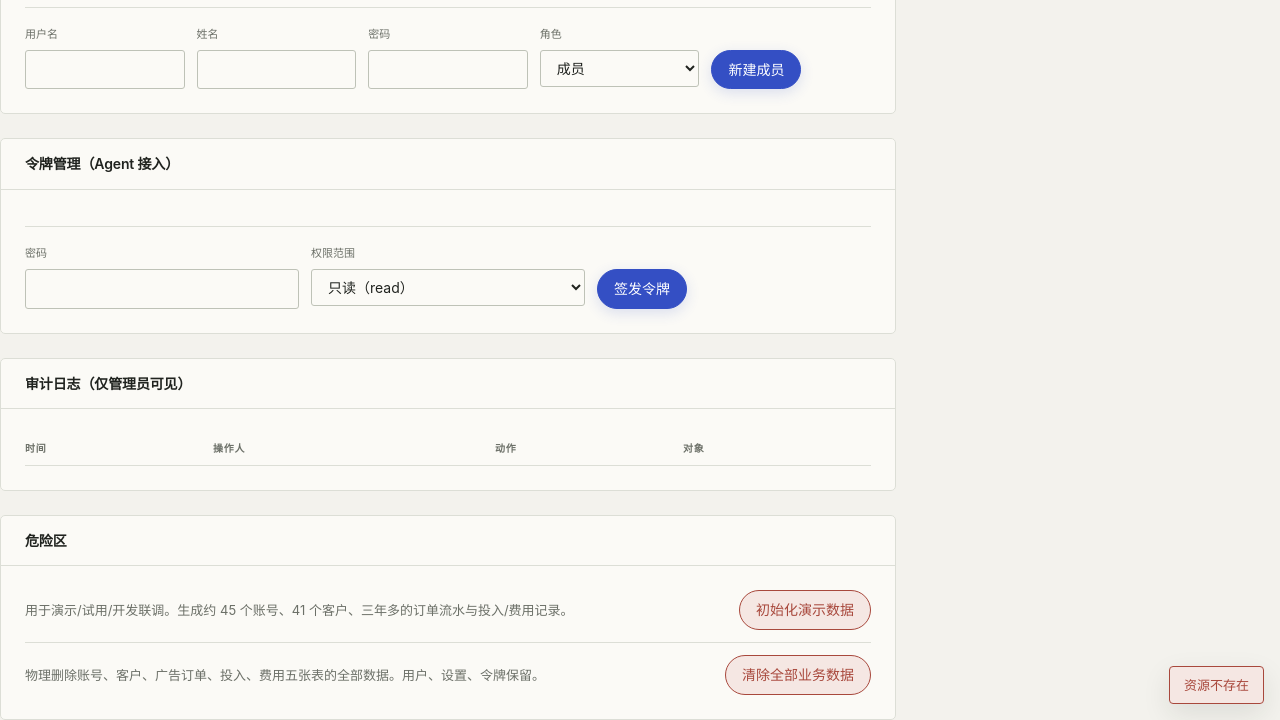
Scenario: S10/S11 危险区 › S10: 初始化演示数据成功后 Toast 显示统计
(page scrolled)
Step 1. Click the button "初始化演示数据" → click(805, 610), box left=739, top=590, right=871, bottom=630
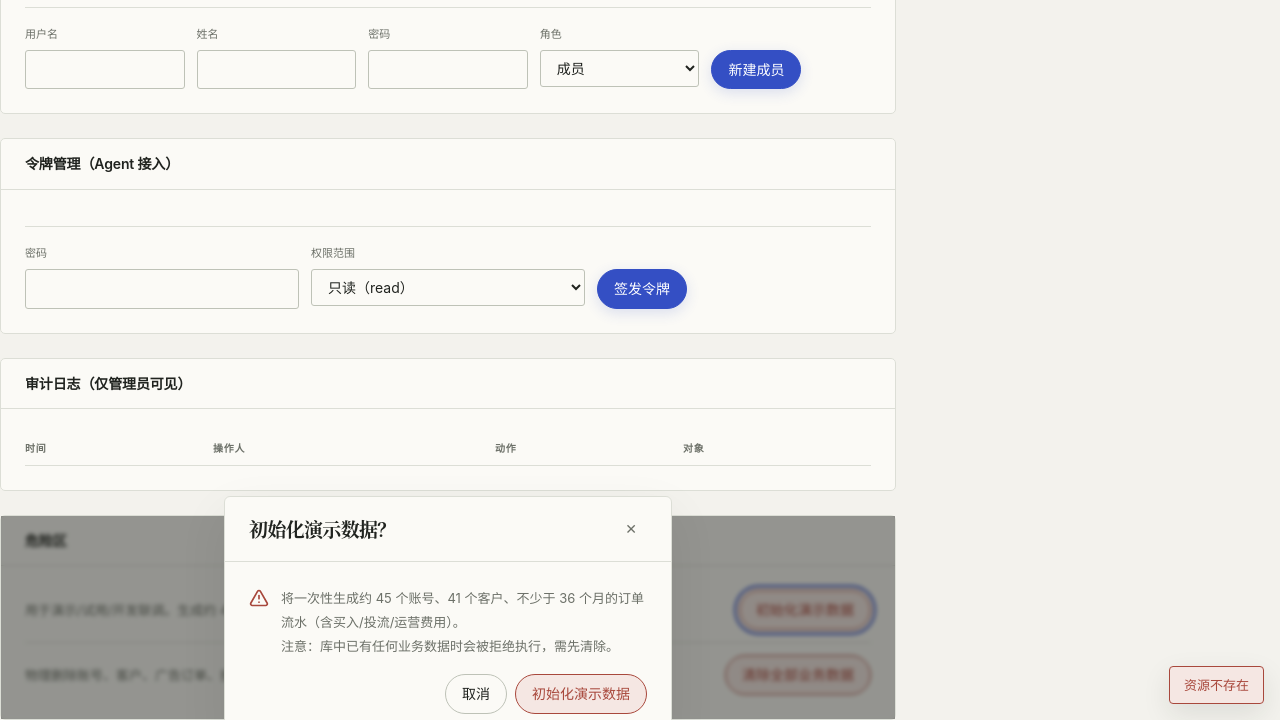
Step 2. Click the button "初始化演示数据" → click(581, 694), box left=515, top=674, right=647, bottom=714
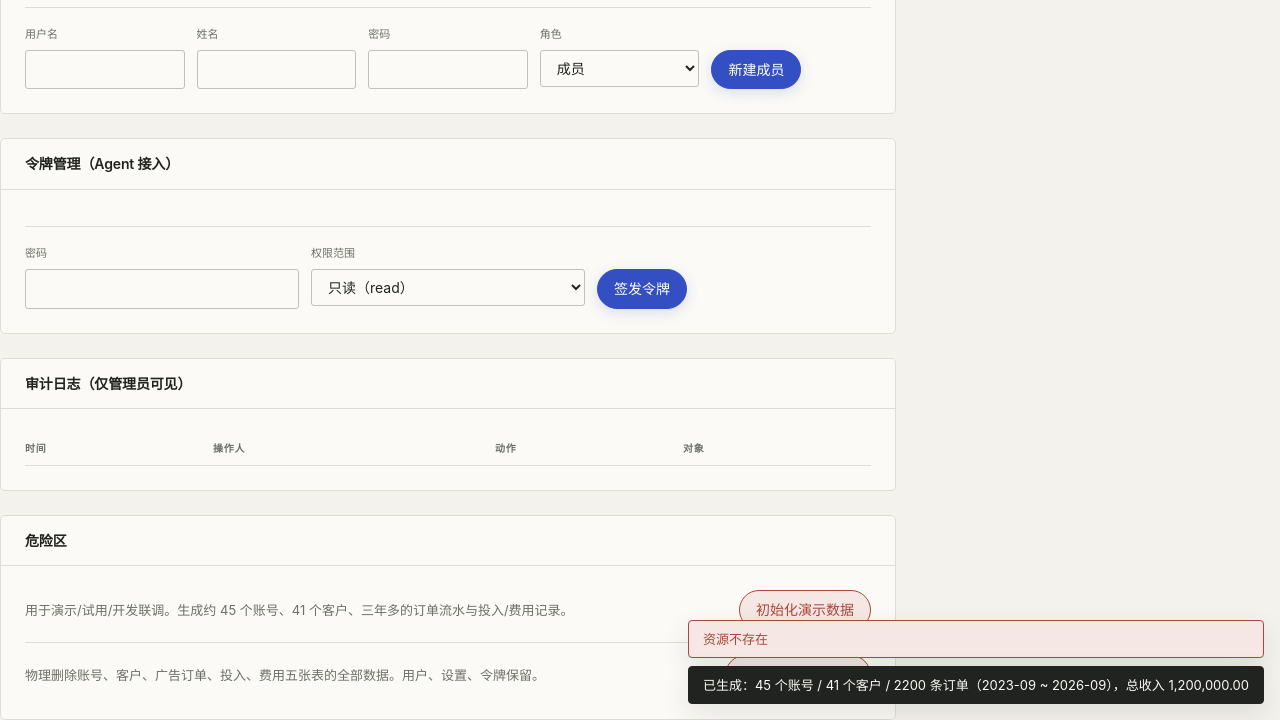
Expected: the text "已生成：45 个账号 / 41 个客户 / 2200 条订单（2023-09 ~ 2026-09），总收入 1,200,000.00" is shown, left=688, top=666, right=1264, bottom=704
